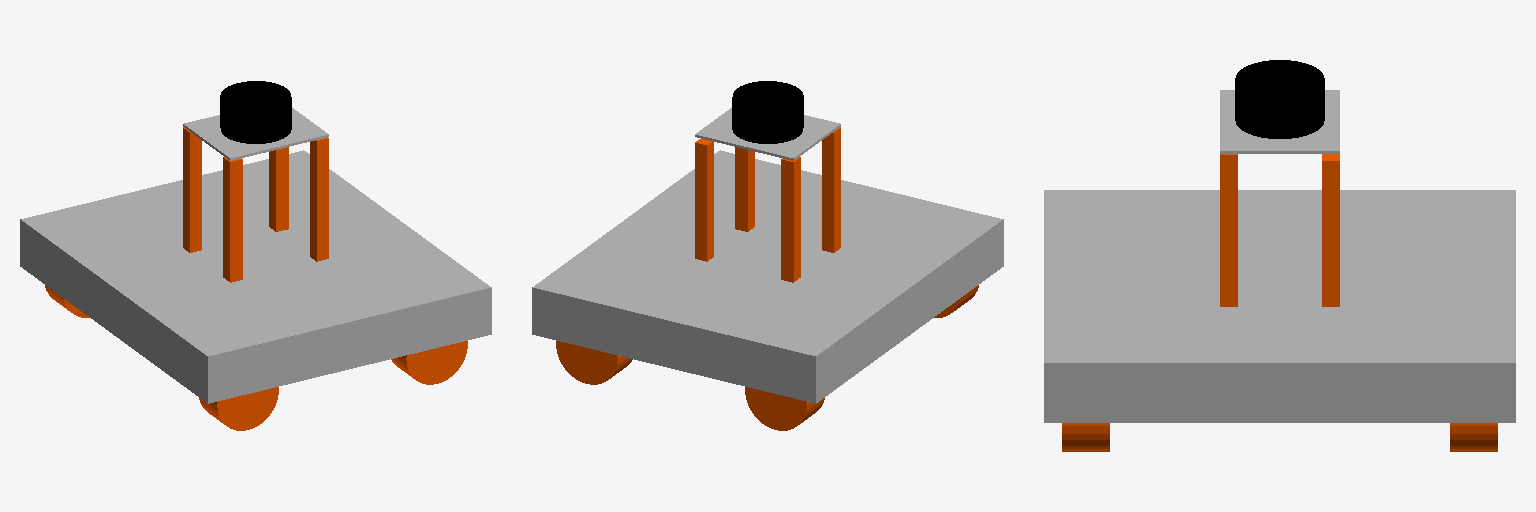
URDF robot description (xbot):
<?xml version="1.0" ?>
<robot name="xbot">

    <link name="base_link">
        <visual>
            <origin xyz=" 0 0 0" rpy="0 0 0" />
            <geometry>
                <box size="0.345 0.395 0.055" />
            </geometry>
            <material name="gray">
                <color rgba="0.75 0.75 0.75 1"/>
            </material>
        </visual>
    </link>

        <joint name="base_footprint_joint" type="fixed">
            <origin xyz="0 0 0.08625" rpy="0 0 0" />        
            <parent link="base_footprint"/>
            <child link="base_link" />
        </joint>

 <link name="base_footprint">
            <visual>
                <origin xyz="0 0 0" rpy="0 0 0" />
                <geometry>
                    <box size="0.001 0.001 0.001" />
                </geometry>
            </visual>
        </link>
        
    <joint name="left_up_wheel_joint" type="continuous">
        <origin xyz="0.115 0.1625 -0.04" rpy="0 0 0"/>
        <parent link="base_link"/>
        <child link="left_up_wheel_link"/>
        <axis xyz="0 1 0"/>
    </joint>


   <link name="left_up_wheel_link">
        <visual>
            <origin xyz="0 0 0" rpy="1.5707 0 0" />
            <geometry>
                <cylinder radius="0.0375" length = "0.04"/>
            </geometry>
            <material name="yellow">
                <color rgba="1 0.4 0 1"/>
            </material>
        </visual>
    </link>

   <joint name="right_up_wheel_joint" type="continuous">
        <origin xyz="-0.115 0.1625 -0.04" rpy="0 0 0"/>
        <parent link="base_link"/>
        <child link="right_up_wheel_link"/>
        <axis xyz="0 1 0"/>
    </joint>

   <link name="right_up_wheel_link">
        <visual>
            <origin xyz="0 0 0" rpy="1.5707 0 0" />
            <geometry>
                <cylinder radius="0.0375" length = "0.04"/>
            </geometry>
            <material name="yellow">
                <color rgba="1 0.4 0 1"/>
            </material>
        </visual>
    </link>

 <joint name="left_down_wheel_joint" type="continuous">
        <origin xyz="0.115 -0.1625 -0.04" rpy="0 0 0"/>
        <parent link="base_link"/>
        <child link="left_down_wheel_link"/>
        <axis xyz="0 1 0"/>
    </joint>

   <link name="left_down_wheel_link">
        <visual>
            <origin xyz="0 0 0" rpy="1.5707 0 0" />
            <geometry>
                <cylinder radius="0.0375" length = "0.04"/>
            </geometry>
            <material name="yellow">
                <color rgba="1 0.4 0 1"/>
            </material>
        </visual>
    </link>

   <joint name="right_down_wheel_joint" type="continuous">
        <origin xyz="-0.115 -0.1625 -0.04" rpy="0 0 0"/>
        <parent link="base_link"/>
        <child link="right_down_wheel_link"/>
        <axis xyz="0 1 0"/>
    </joint>

   <link name="right_down_wheel_link">
        <visual>
            <origin xyz="0 0 0" rpy="1.5707 0 0" />
            <geometry>
                <cylinder radius="0.0375" length = "0.04"/>
            </geometry>
            <material name="yellow">
                <color rgba="1 0.4 0 1"/>
            </material>
        </visual>
    </link>

  <joint name="left_up_support_joint" type="fixed">
        <origin xyz="0.0525 0.0425 0.0925" rpy="0 0 0"/>
        <parent link="base_link"/>
        <child link="left_up_support"/>
        <axis xyz="0 0 0"/>
    </joint>


    <link name="left_up_support"> 
        <visual>
            <origin xyz=" 0 0 0" rpy="0 0 0" />
            <geometry>
                <box size="0.015 0.015 0.14" />
            </geometry>
            <material name="yellow">
                <color rgba="1 0.4 0 1"/>
            </material>
        </visual>
    </link>

<joint name="right_up_support_joint" type="fixed">
        <origin xyz="-0.0525 0.0425 0.0975" rpy="0 0 0"/>
        <parent link="base_link"/>
        <child link="right_up_support"/>
        <axis xyz="0 0 0"/>
    </joint>


    <link name="right_up_support"> 
        <visual>
            <origin xyz=" 0 0 0" rpy="0 0 0" />
            <geometry>
                <box size="0.015 0.015 0.14" />
            </geometry>
            <material name="yellow">
                <color rgba="1 0.4 0 1"/>
            </material>
        </visual>
    </link>

<joint name="left_down_support_joint" type="fixed">
        <origin xyz="0.0525 -0.0425 0.0975" rpy="0 0 0"/>
        <parent link="base_link"/>
        <child link="left_down_support"/>
        <axis xyz="0 0 0"/>
    </joint>


    <link name="left_down_support"> 
        <visual>
            <origin xyz=" 0 0 0" rpy="0 0 0" />
            <geometry>
                <box size="0.015 0.015 0.14" />
            </geometry>
            <material name="yellow">
                <color rgba="1 0.4 0 1"/>
            </material>
        </visual>
    </link>

<joint name="right_down_support_joint" type="fixed">
        <origin xyz="-0.0525 -0.0425 0.0975" rpy="0 0 0"/>
        <parent link="base_link"/>
        <child link="right_down_support"/>
        <axis xyz="0 0 0"/>
    </joint>


    <link name="right_down_support"> 
        <visual>
            <origin xyz=" 0 0 0" rpy="0 0 0" />
            <geometry>
                <box size="0.015 0.015 0.14" />
            </geometry>
            <material name="yellow">
                <color rgba="1 0.4 0 1"/>
            </material>
        </visual>
    </link>

<joint name="support_link_joint" type="fixed">
        <origin xyz="0 0 0.1705" rpy="0 0 0"/>
        <parent link="base_link"/>
        <child link="support_link"/>
        <axis xyz="0 1 0"/>
    </joint>


 <link name="support_link">
        <visual>
            <origin xyz=" 0 0 0" rpy="0 0 0" />
            <geometry>
                <box size="0.12 0.1 0.003" />
            </geometry>
            <material name="gray">
                <color rgba="0.75 0.75 0.75 1"/>
            </material>
        </visual>
    </link>

   
   <link name="kinect_link">
        <visual>
            <origin xyz="0 0 0" rpy="0 0 1.5708"/>
            <geometry>
                <mesh filename="package://xbot_description/meshes/kinect.dae" />
            </geometry>
        </visual>
    </link>

    <joint name="kinect_joint" type="fixed">
        <origin xyz="0.13 0 0.05" rpy="0 0 0"/>
        <parent link="base_link"/>
        <child link="kinect_link"/>
    </joint>

    <link name="laser_link">
        <visual>
            <origin xyz="0 0 0" rpy="0 0 0" />
            <geometry>
                <cylinder radius="0.0375" length = "0.04"/>
            </geometry>
            <material name="black">
                <color rgba="0 0 0 0.95"/>
            </material>
        </visual>
    </link>

   <joint name="laser_joint" type="fixed">
        <origin xyz="0 0 0.1905" rpy="0 0 0"/>
        <parent link="base_link"/>
        <child link="laser_link"/>
        <axis xyz="0 1 0"/>
    </joint>

</robot>

--- What the picture shows (computed from the rendered views, not written in the file) ---
Views: 3 orthographic renders of the robot side by side, from view 1: azimuth 30°, elevation 25°; view 2: azimuth 150°, elevation 25°; view 3: azimuth 270°, elevation 25°.
Robot: xbot — 13 links, 12 joints (4 continuous, 8 fixed); root link base_footprint; default pose: all joints at 0.
Links seen in each view (by area): view 1: base_link, laser_link, support_link, right_down_support, left_down_support, right_up_support, right_down_wheel_link, left_down_wheel_link, left_up_support; view 2: base_link, laser_link, support_link, right_up_support, left_up_support, right_down_support, right_up_wheel_link, left_up_wheel_link, left_down_support; view 3: base_link, laser_link, support_link, left_up_support, left_down_support, left_up_wheel_link, left_down_wheel_link.
Link boxes in pixels (x1=…): base_link: x1=20, y1=150, x2=491, y2=403; laser_link: x1=220, y1=81, x2=291, y2=143; support_link: x1=183, y1=108, x2=328, y2=160; right_down_support: x1=223, y1=157, x2=242, y2=282; left_down_support: x1=310, y1=137, x2=328, y2=261; right_up_support: x1=183, y1=127, x2=201, y2=252; right_down_wheel_link: x1=199, y1=387, x2=278, y2=430; left_down_wheel_link: x1=391, y1=341, x2=467, y2=384; left_up_support: x1=269, y1=147, x2=288, y2=231; base_link: x1=532, y1=150, x2=1003, y2=403; laser_link: x1=732, y1=81, x2=803, y2=143; support_link: x1=695, y1=108, x2=840, y2=160; right_up_support: x1=781, y1=157, x2=800, y2=282; left_up_support: x1=695, y1=139, x2=713, y2=261; right_down_support: x1=822, y1=127, x2=840, y2=252; right_up_wheel_link: x1=745, y1=387, x2=824, y2=430; left_up_wheel_link: x1=556, y1=341, x2=632, y2=384; left_down_support: x1=735, y1=147, x2=754, y2=231; base_link: x1=1044, y1=190, x2=1515, y2=422; laser_link: x1=1235, y1=60, x2=1324, y2=138; support_link: x1=1220, y1=90, x2=1339, y2=153; left_up_support: x1=1322, y1=154, x2=1339, y2=306; left_down_support: x1=1220, y1=154, x2=1237, y2=306; left_up_wheel_link: x1=1450, y1=423, x2=1497, y2=451; left_down_wheel_link: x1=1062, y1=423, x2=1109, y2=451.
Size in the robot's own frame: 0.345 by 0.395 by 0.2973 metres.
0 mesh visuals loaded from 1 distinct referenced files (none loaded); not drawn: 1 (reference not matched to a file when rendering).